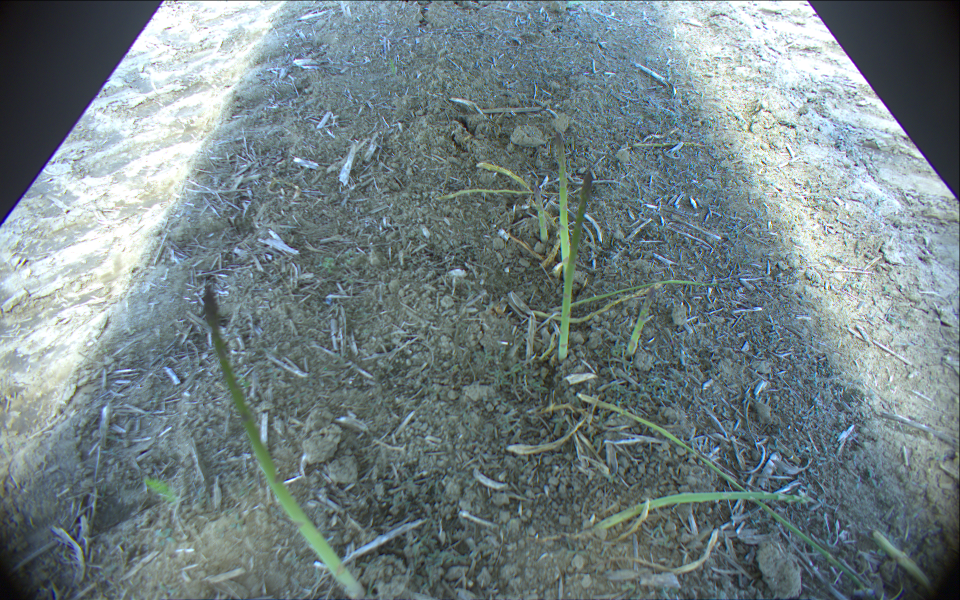aspa: (573, 390, 867, 595), (202, 284, 367, 600), (589, 491, 810, 533), (557, 170, 594, 364), (555, 279, 721, 314), (526, 287, 656, 324), (871, 530, 940, 596), (440, 180, 617, 200), (553, 130, 570, 278), (626, 285, 657, 359), (477, 163, 530, 194), (533, 182, 551, 244), (623, 140, 710, 151), (524, 311, 536, 363)
